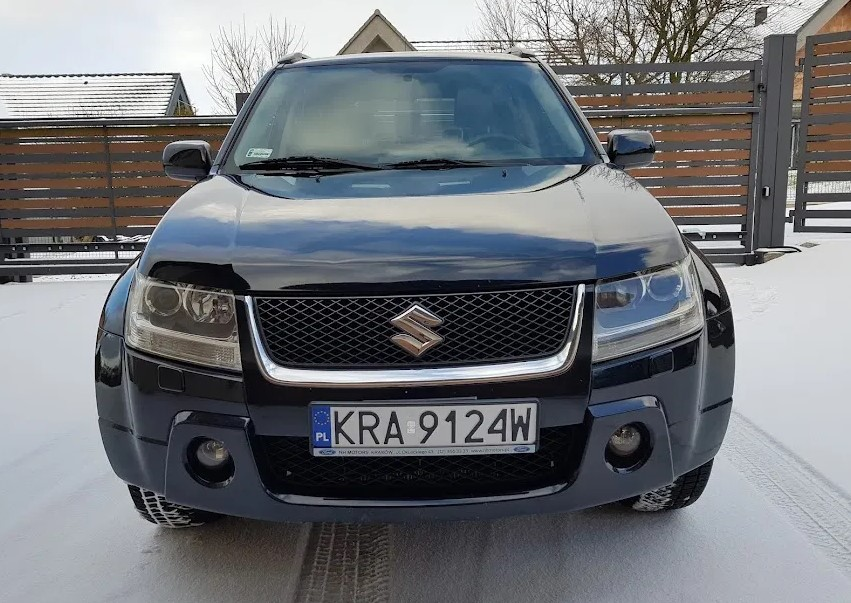number_plate: (294, 397, 556, 462)
